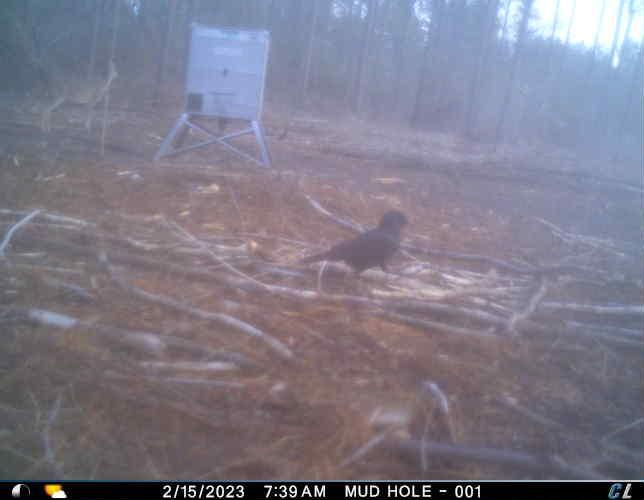Deer: (33, 49, 122, 140)
